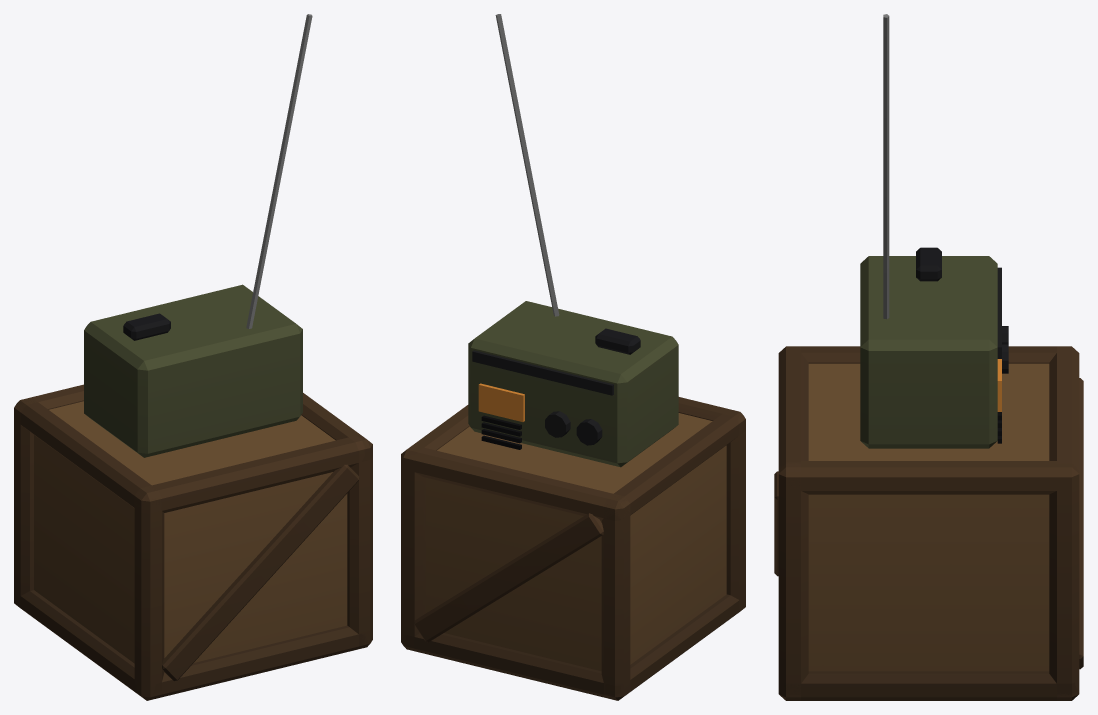
File: radio_set.glb
3 views of the same model, side by side, from view 1: azimuth 30°, elevation 25°; view 2: azimuth 150°, elevation 25°; view 3: azimuth 270°, elevation 25° (orthographic). The views are drawn at different scales.
Parts seen in each view (by area): view 1: radio_set; view 2: radio_set; view 3: radio_set.
Part boxes in pixels (left/top/right/bottom): radio_set: left=14, top=14, right=372, bottom=700; radio_set: left=401, top=14, right=745, bottom=700; radio_set: left=774, top=14, right=1083, bottom=700.
Bounding box in the file's own units: 0.7 × 1.74 × 0.72.
